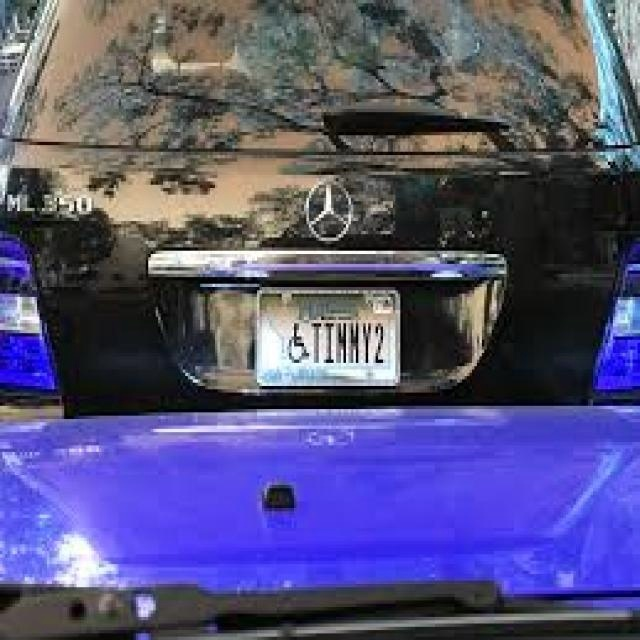ISA: (286, 322, 310, 362)
